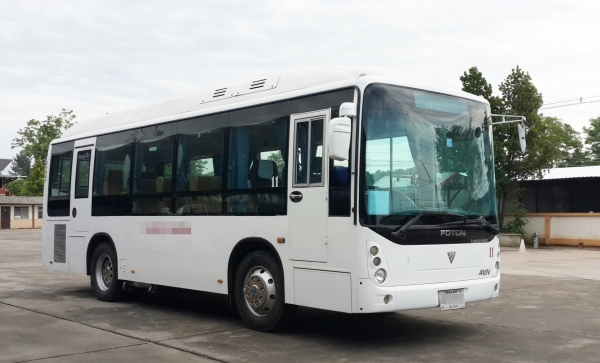bus: (41, 64, 502, 334)
